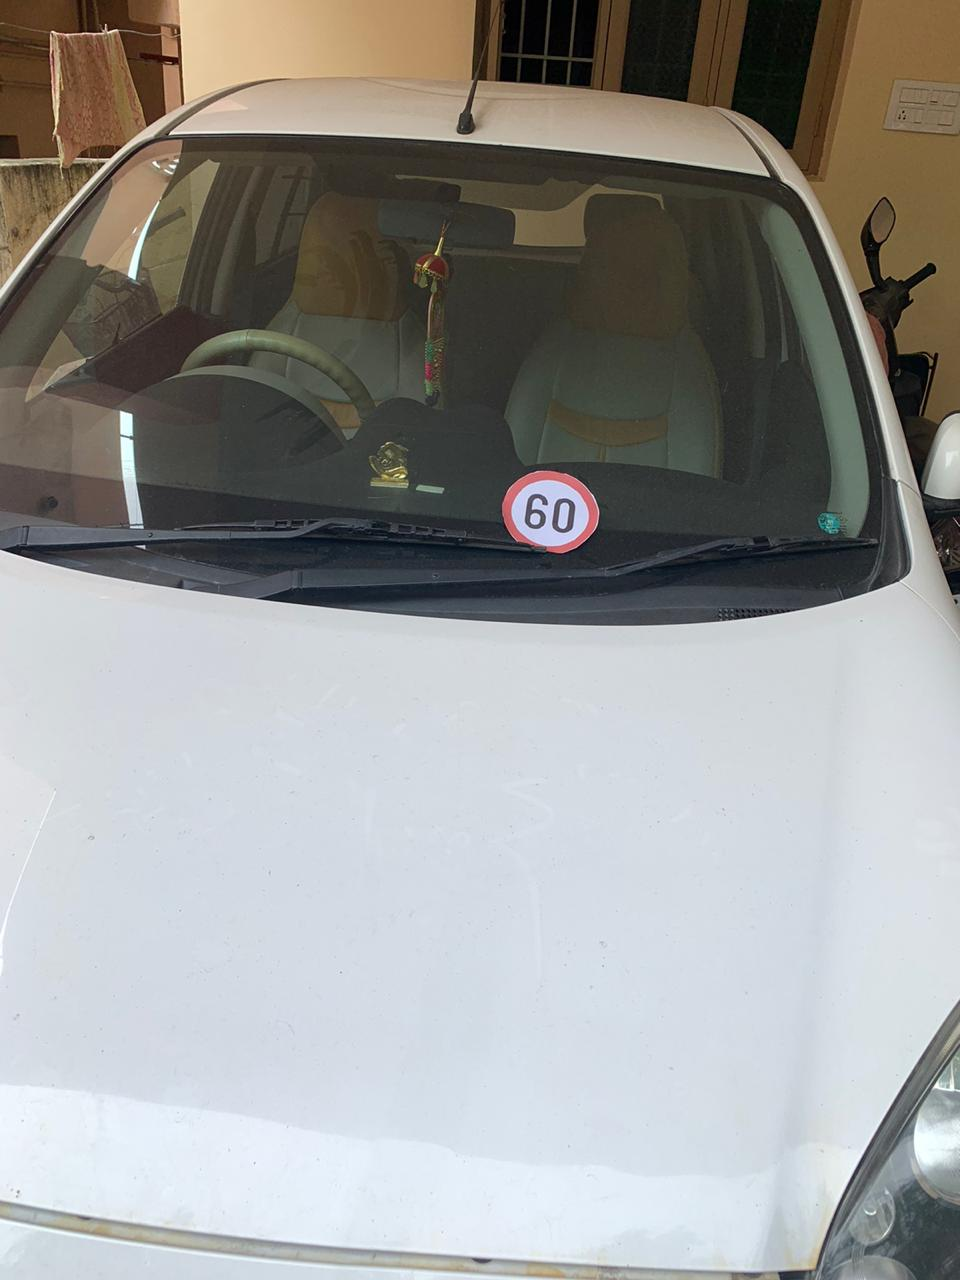SPEED LIMIT (60 KM/H): (487, 464, 611, 557)
